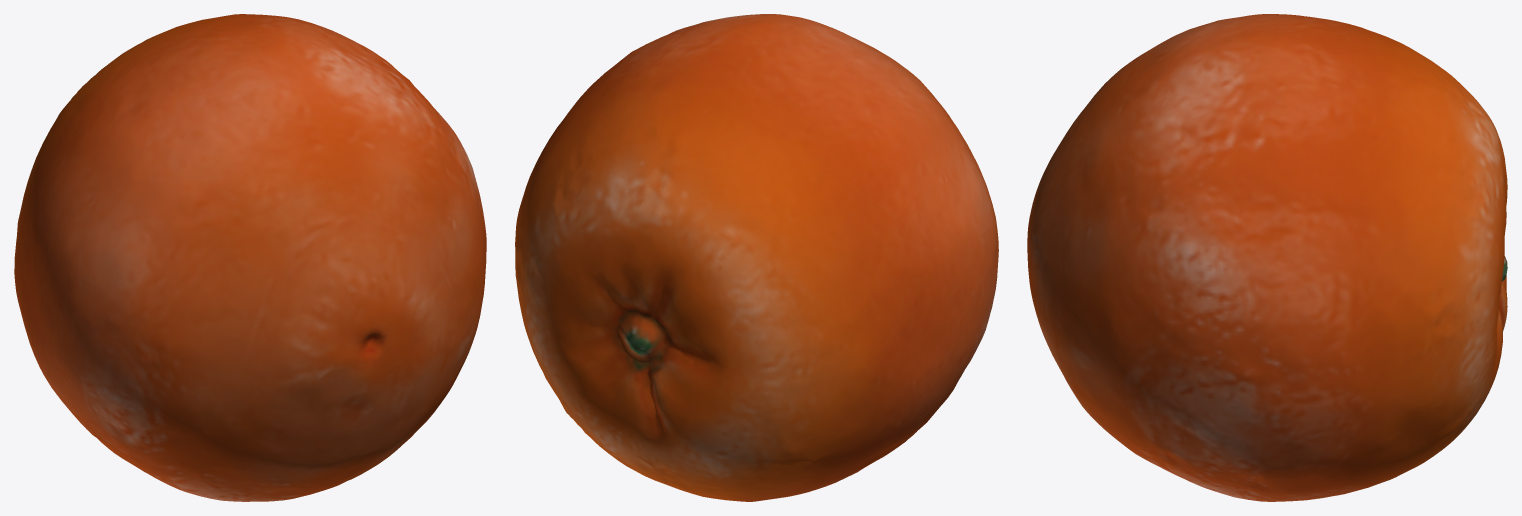
Rendered from orange.obj.
3 views of the same model, side by side, from view 1: azimuth 30°, elevation 25°; view 2: azimuth 150°, elevation 25°; view 3: azimuth 270°, elevation 25° (orthographic). The views are drawn at different scales.
Size of the model in its own units: 0.0722 by 0.074 by 0.0714.
Materials: 1 (1 with a texture image).
